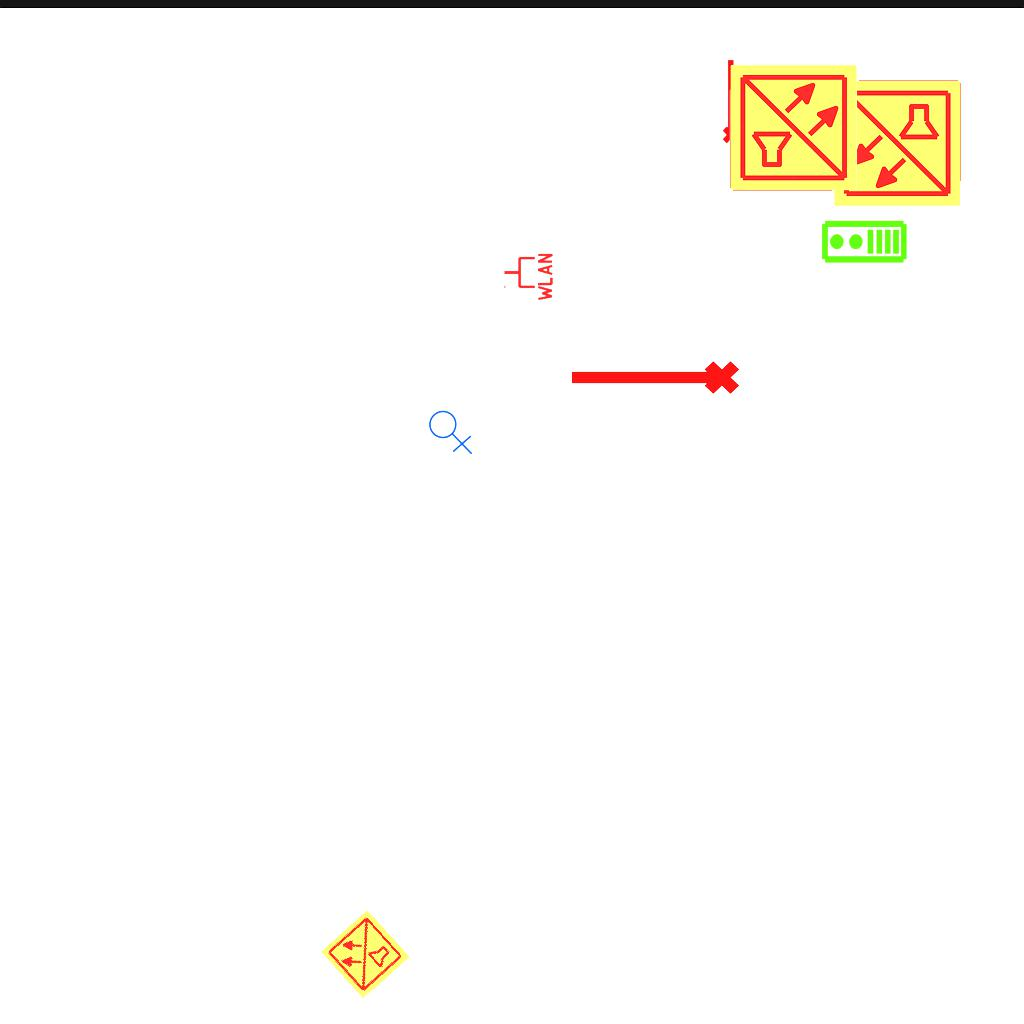ASR_Ansaugoeffnung: (566, 357, 742, 403), (718, 57, 741, 145)
Elektroanschluss_allgemein_230V_Geraeteanschlussdose_230V: (428, 406, 475, 455)
Gegensprechanlage_mit_Video: (820, 219, 908, 266)
OKW_Multisensormelder_(Kombination_optischer_Rauch-Kahlenmonoxid_Waerme-Melder): (831, 77, 963, 209), (728, 62, 860, 194), (318, 907, 412, 1001)
WLAN: (502, 251, 554, 303)
